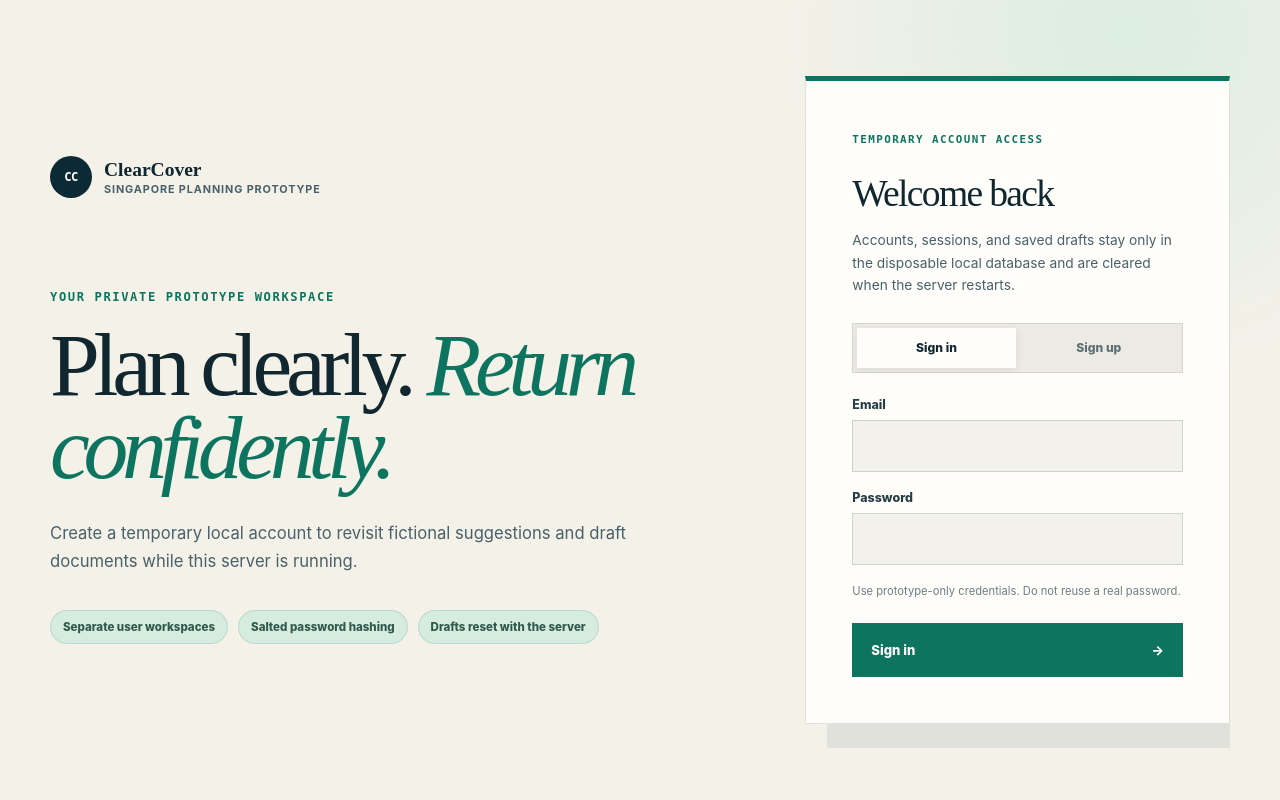
Test case: PlatformShell › restores a returning user's saved draft documents
The image size is (1280, 800).
Type "alice@example.test" into the field labelled "Email". click: [1018, 446]
box: [852, 420, 1183, 472]
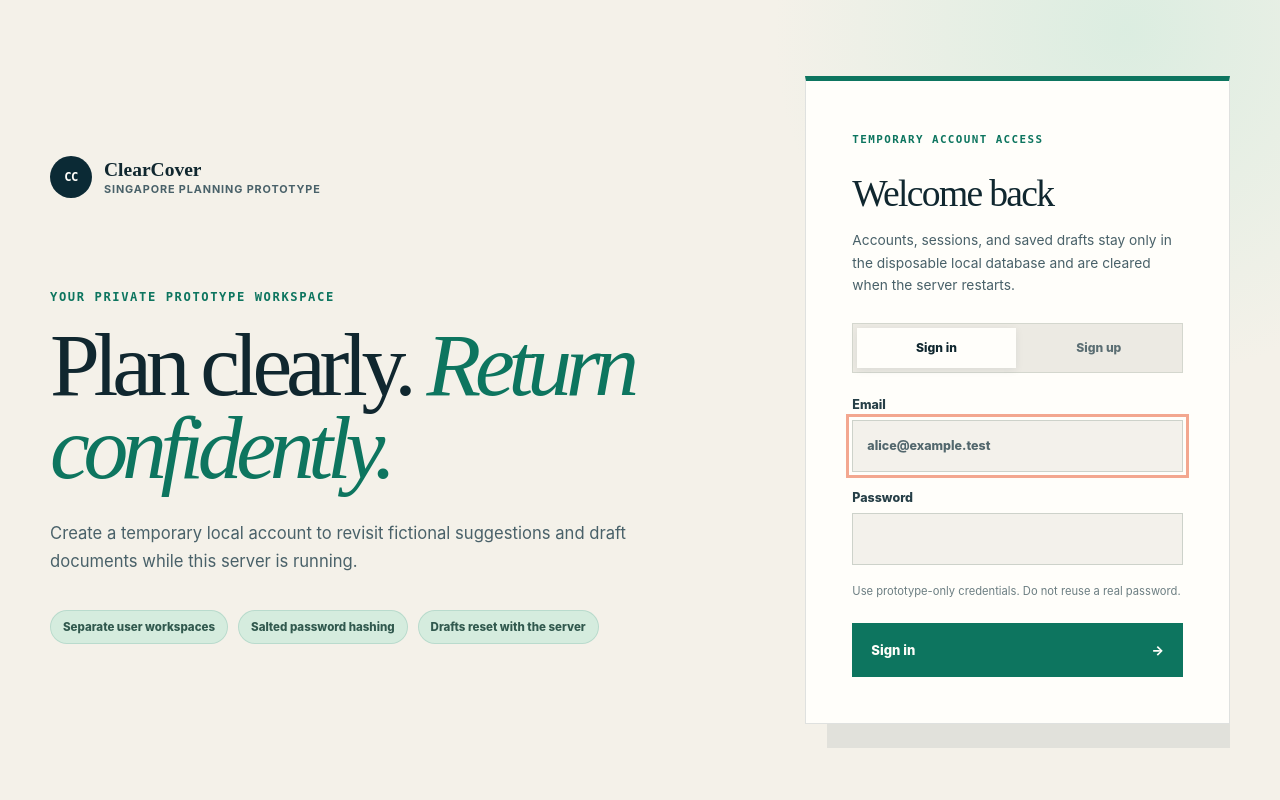
Type "strong-pass-1" into the password field labelled "Password". click: [1018, 539]
box: [852, 513, 1183, 565]
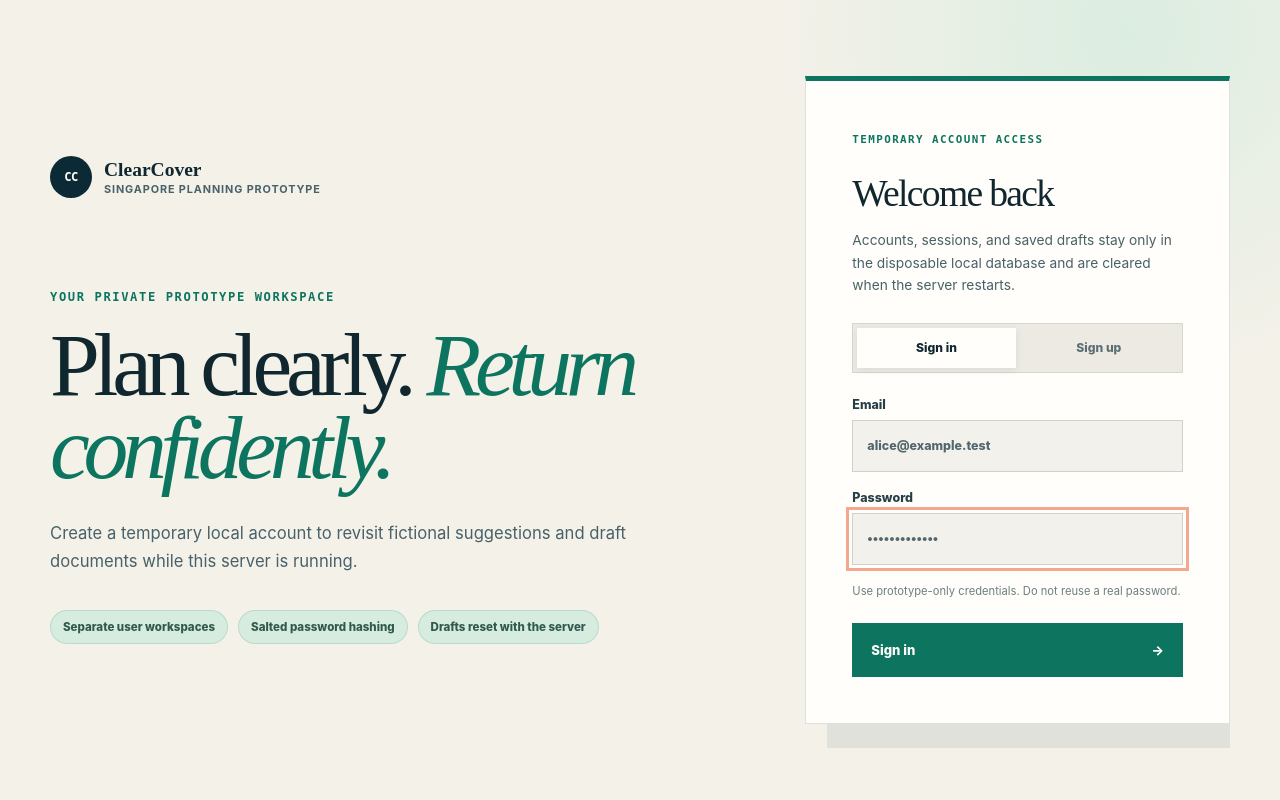
Click the button with aria-label "Sign in to workspace". click: [893, 650]
box: [852, 623, 1183, 677]
(page scrolled)
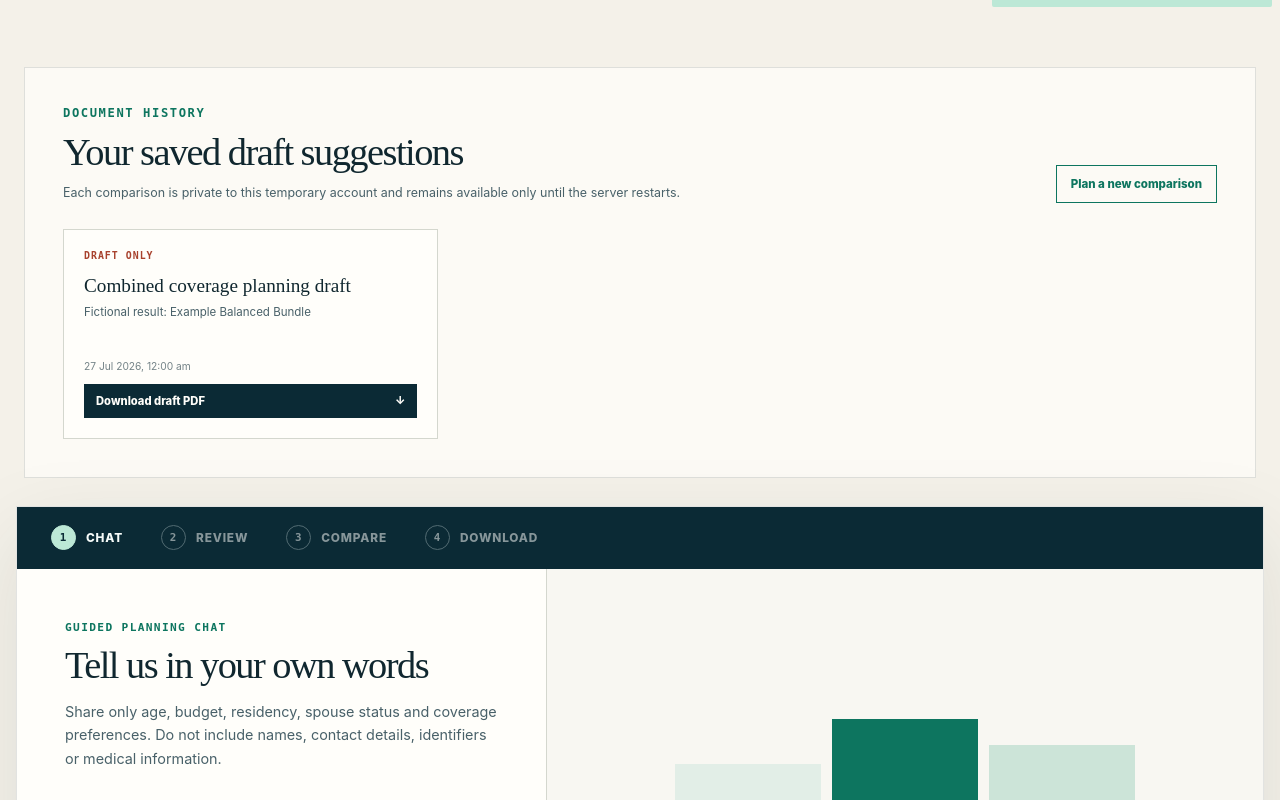
Check: the heading "Combined coverage planning draft" is shown, box [84, 275, 351, 297]
Check: the text "Fictional result: Example Balanced Bundle" is shown, box [84, 304, 311, 321]
Check: the button "Download draft PDF ↓" is enabled, box [84, 384, 417, 418]
